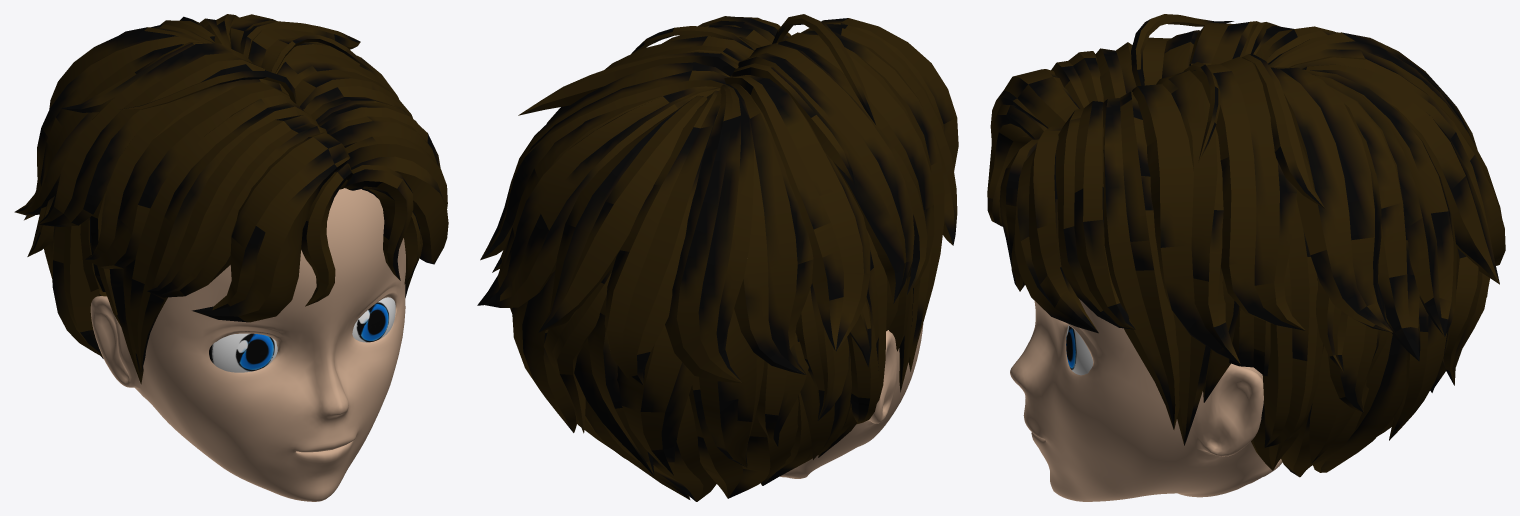
The model's file is head_model.glb.
3 views of the same model, side by side, from view 1: azimuth 30°, elevation 25°; view 2: azimuth 150°, elevation 25°; view 3: azimuth 270°, elevation 25° (orthographic). The views are drawn at different scales.
Visible parts, largest first — view 1: head; view 2: head; view 3: head.
Part boxes in pixels (x1,y1,x2,y2): head: (14, 14, 448, 501); head: (477, 14, 958, 501); head: (987, 14, 1505, 501).
Size of the model in its own units: 1.59 by 1.77 by 1.82.
1 material, 1 textured.
